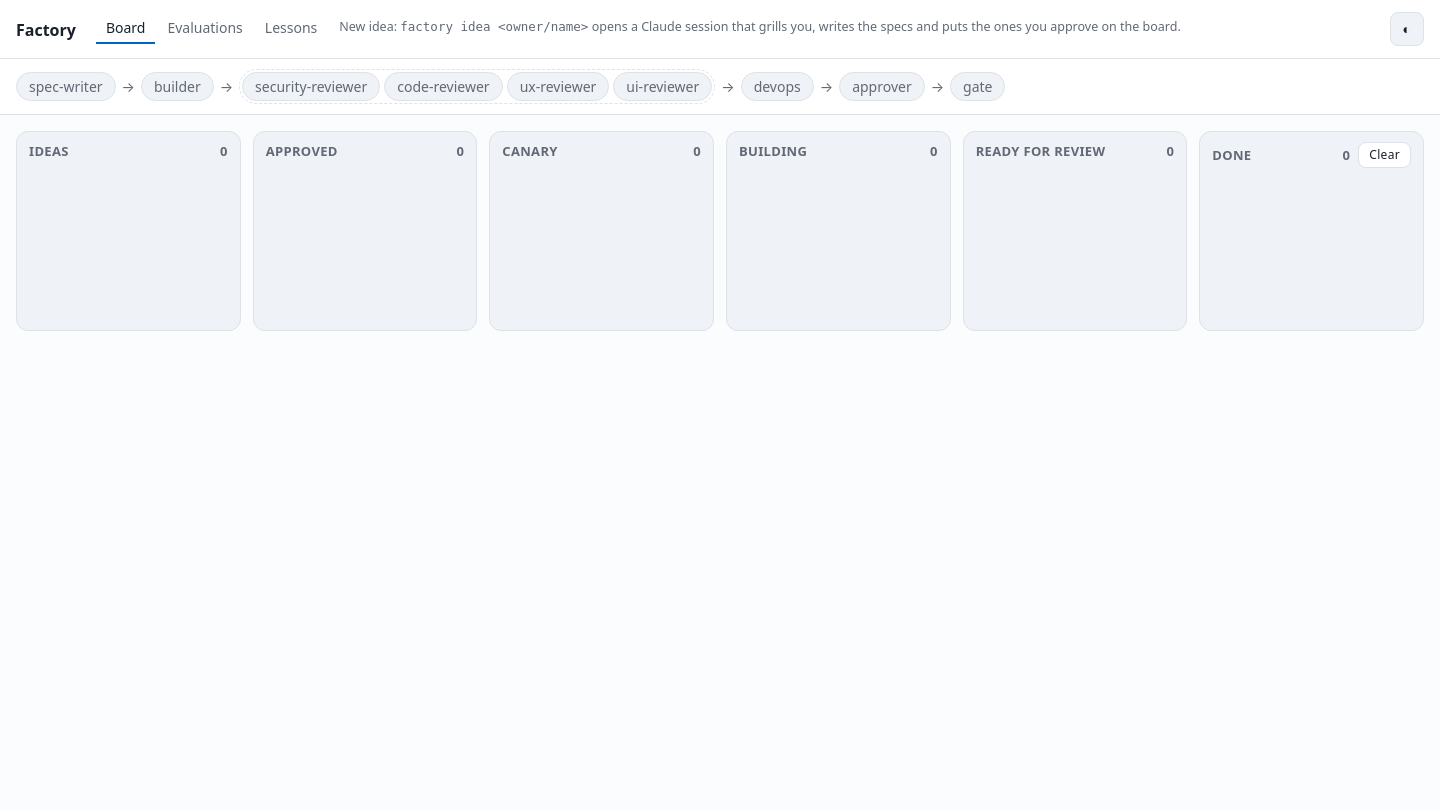
Test: card actions › Clear with nothing to clear says so
This screenshot has width=1440, height=810.
Click the button "Clear".
click(1385, 155)  # box top-left (1358, 142), bottom-right (1411, 168)
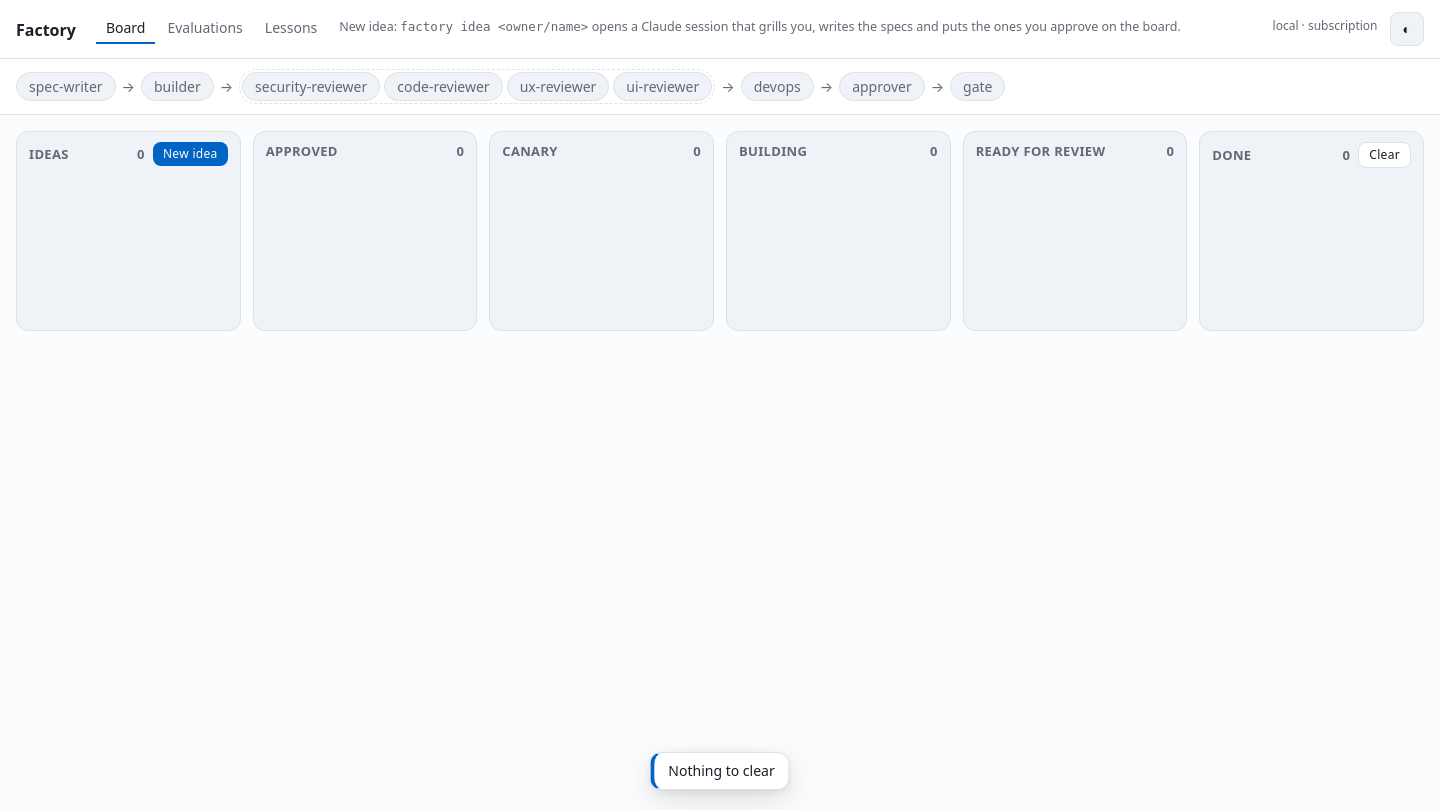
Expected: the message with id "toast" reads "Nothing to clear", top-left (668, 761), bottom-right (775, 780)
